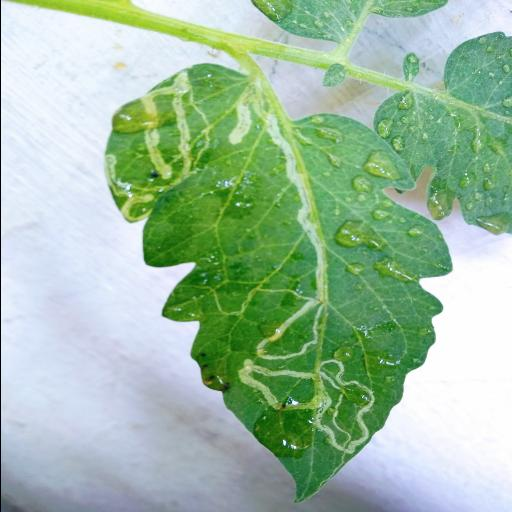Leaf Miner: (101, 62, 457, 504)
